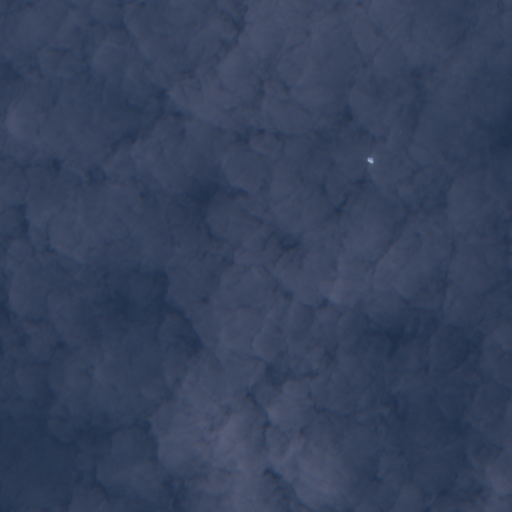Iceberg: (368, 158, 373, 163)
